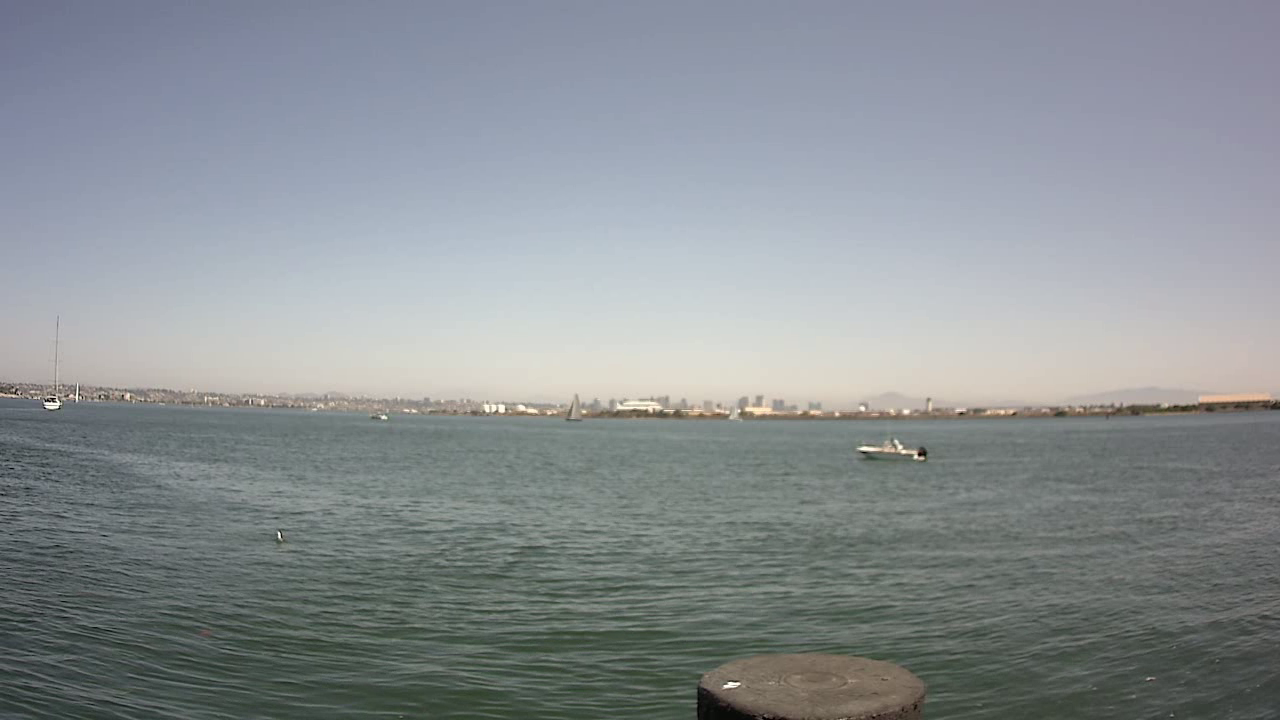target: (847, 419, 929, 469)
